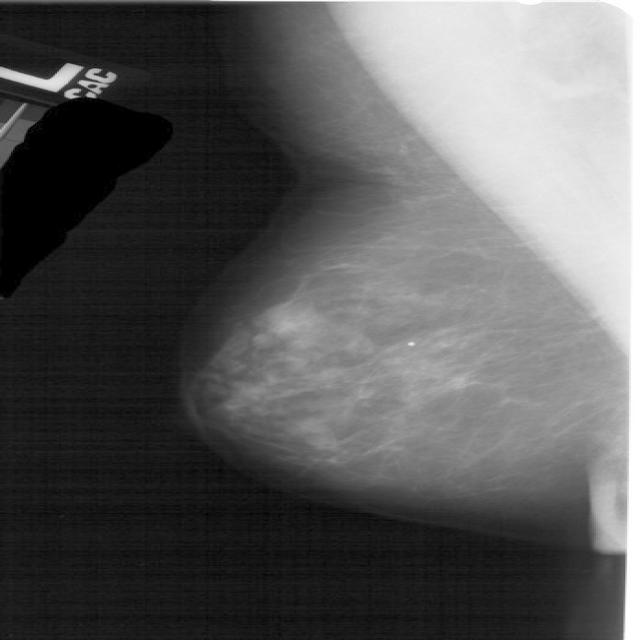tumour: (265, 299, 316, 335)
